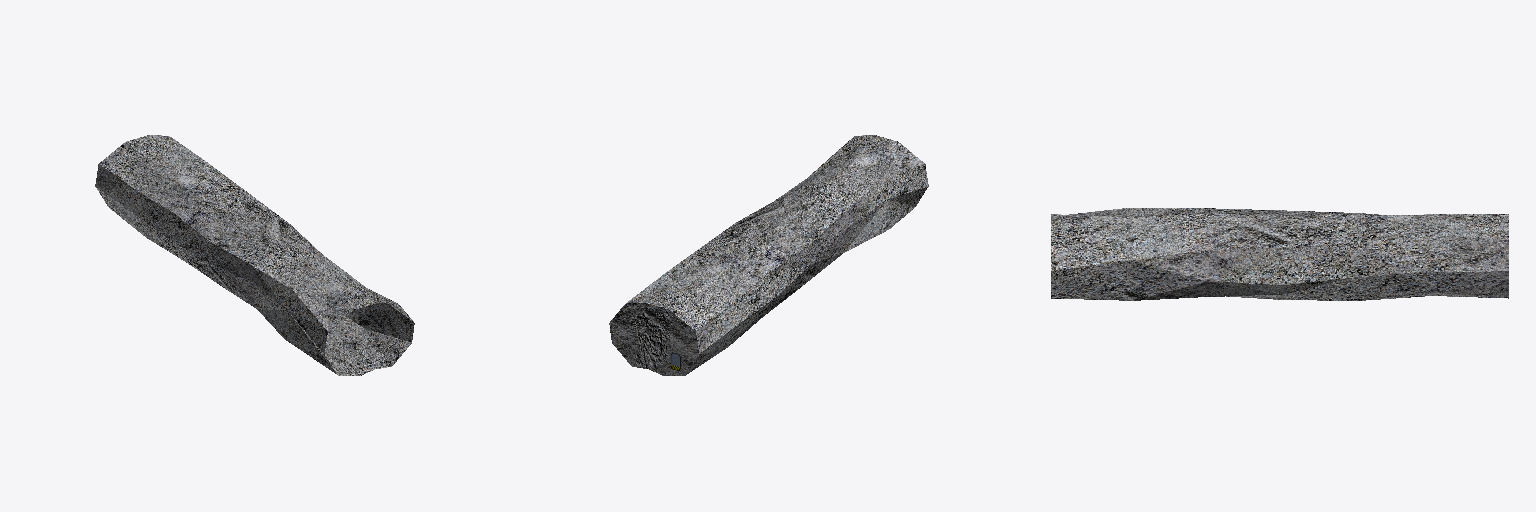
3 views of the same model, side by side, from view 1: azimuth 30°, elevation 25°; view 2: azimuth 150°, elevation 25°; view 3: azimuth 270°, elevation 25° (orthographic).
Parts seen in each view (by area): view 1: jaguar_company_base_bay; view 2: jaguar_company_base_bay; view 3: jaguar_company_base_bay.
Part boxes in pixels (left/top/right/bottom): jaguar_company_base_bay: left=95, top=135, right=414, bottom=375; jaguar_company_base_bay: left=609, top=135, right=928, bottom=375; jaguar_company_base_bay: left=1051, top=208, right=1508, bottom=300.
Size of the model in its own units: 192 by 144 by 796.
Materials: 1 (1 with a texture image).